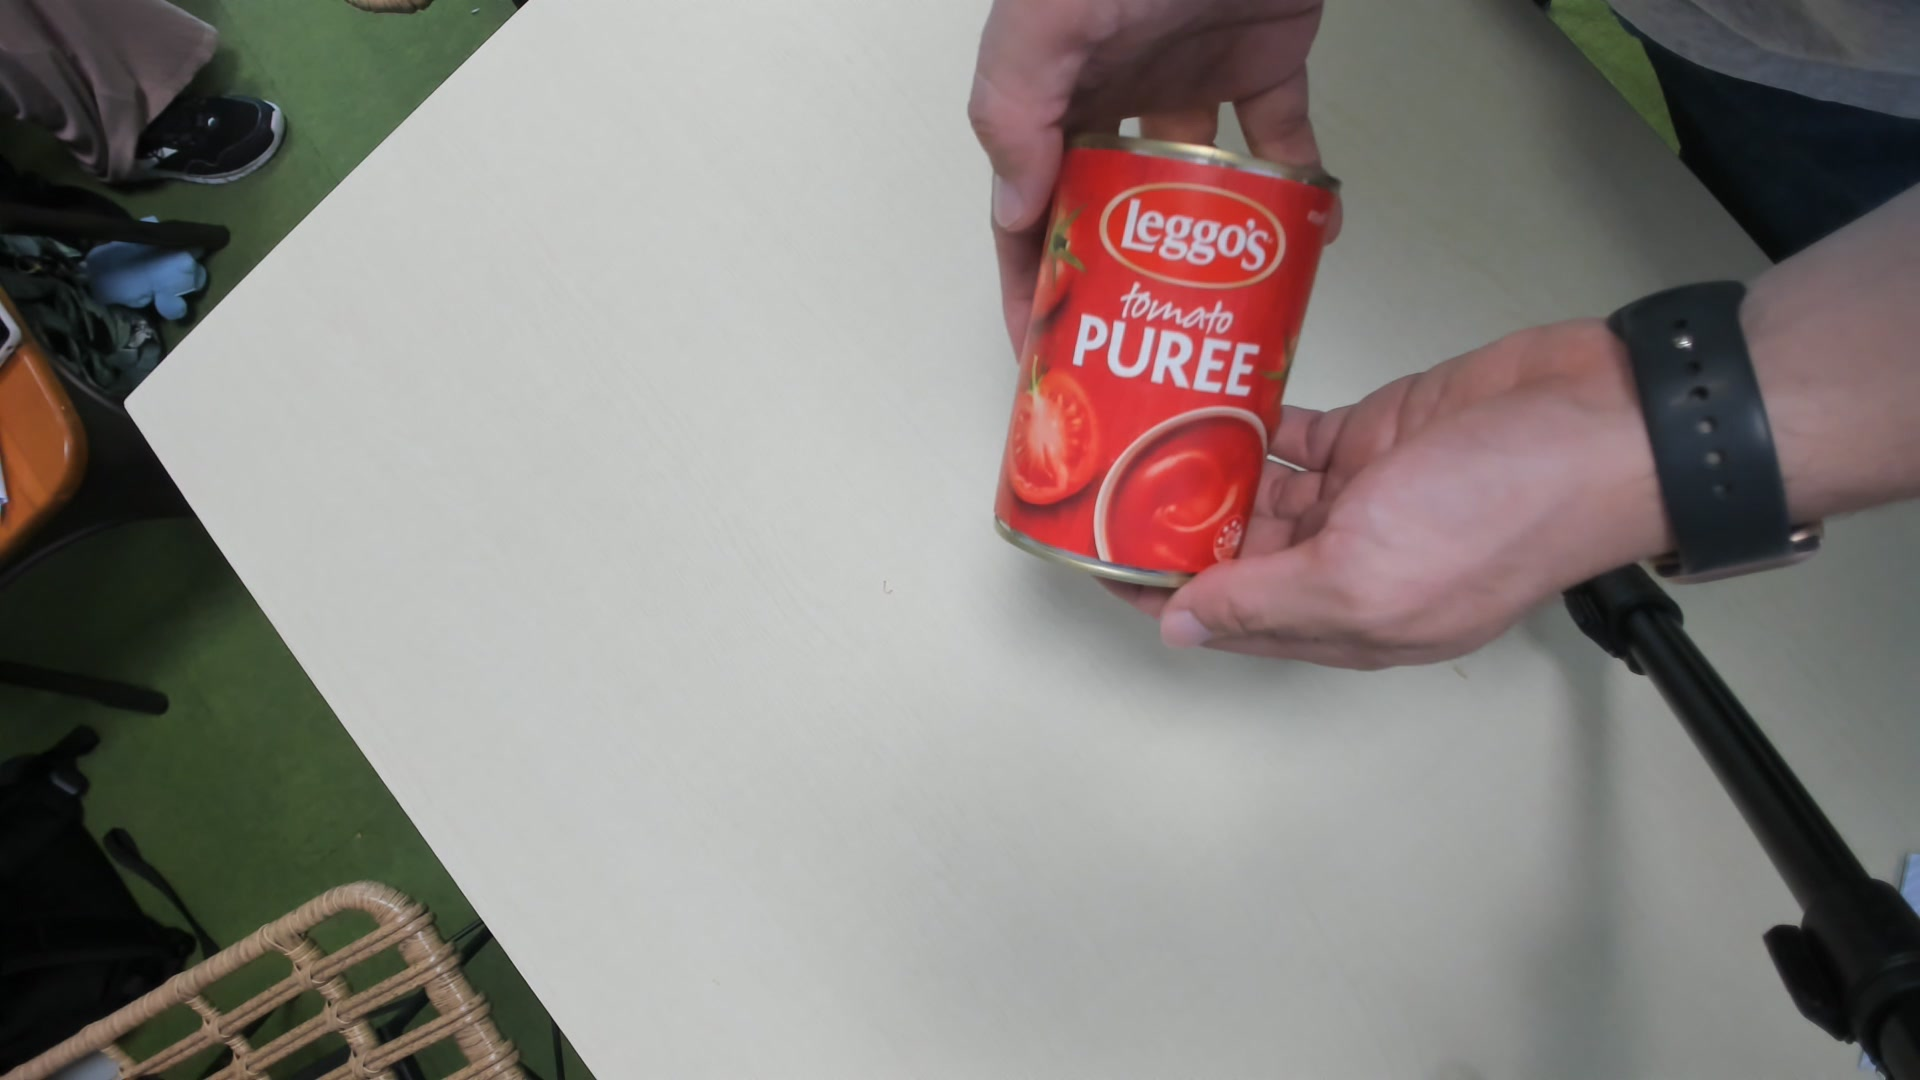OtherSauceDressingSoupbasePaste_400-499g_Halal_NonHealthy: (994, 135, 1342, 585)
